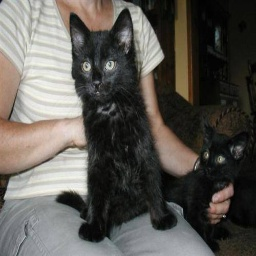cat: (67, 12, 242, 246)
